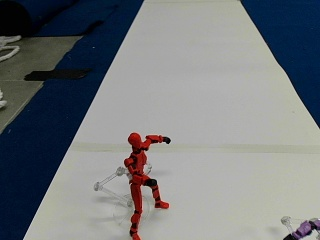pedestrian: (122, 130, 171, 235)
